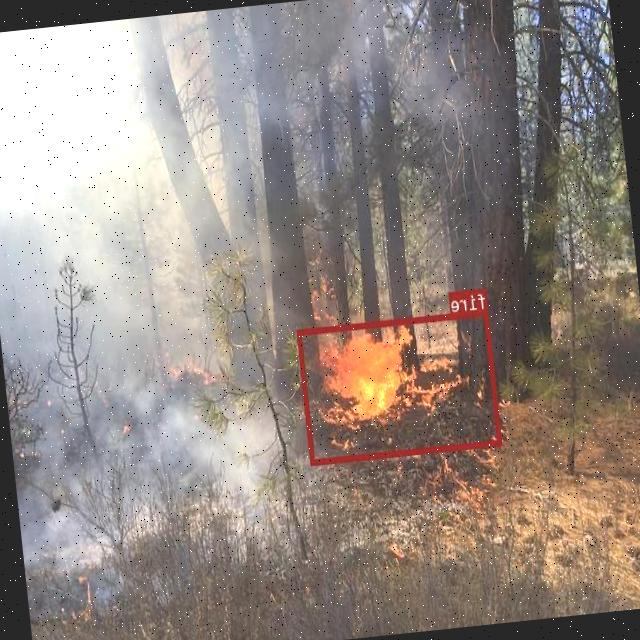fire: (298, 308, 502, 463)
